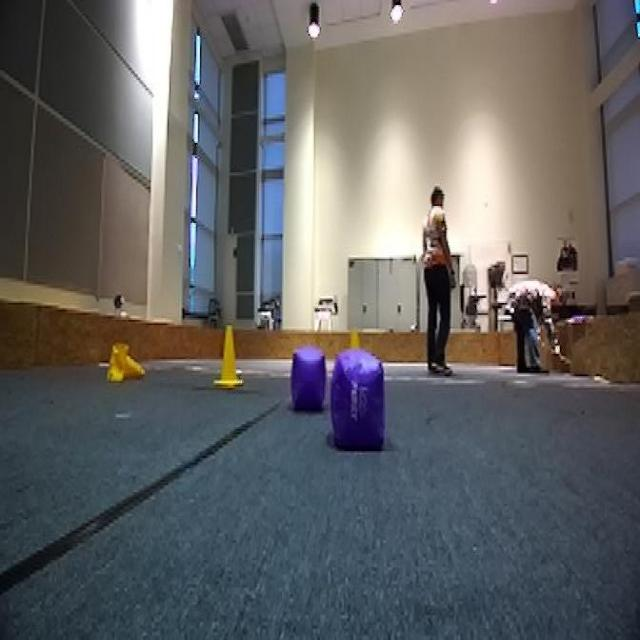frc_cone: (98, 337, 148, 383), (208, 332, 244, 386)
frc_cube: (334, 356, 386, 444), (292, 351, 328, 414)
